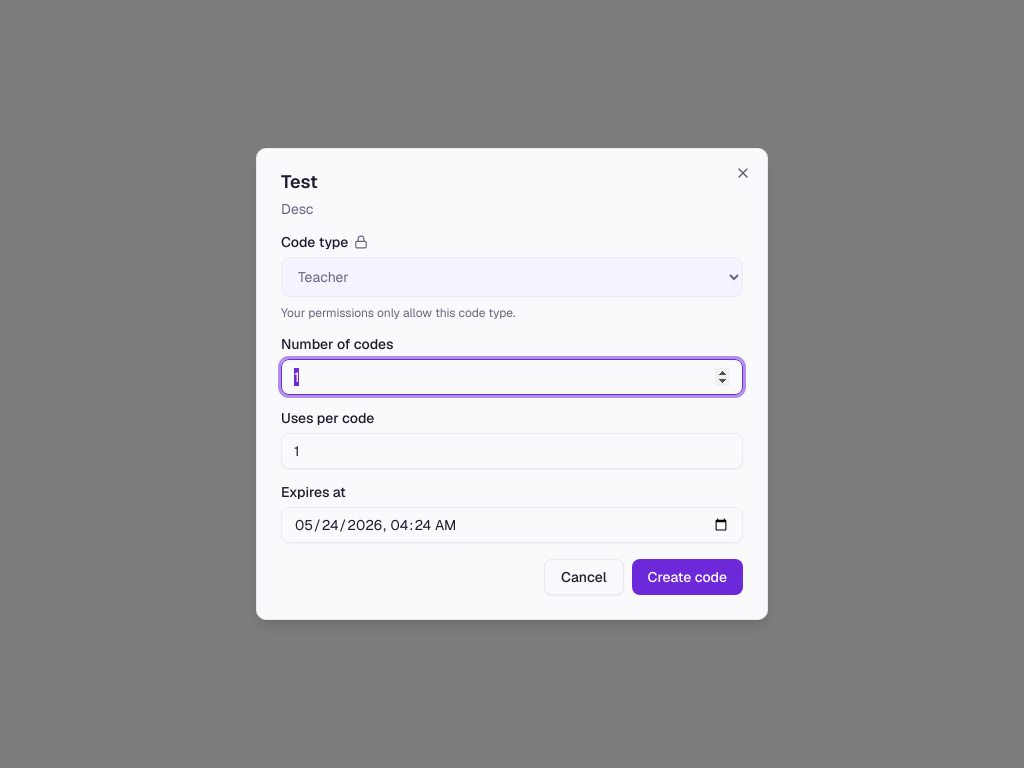
Test case: CreateRegistrationCodeDialog › shows uses validation error when usesPerCode < 1
Replace the text in the number field labelled "Uses per code" with "0": (512, 451) [281,433,743,469]
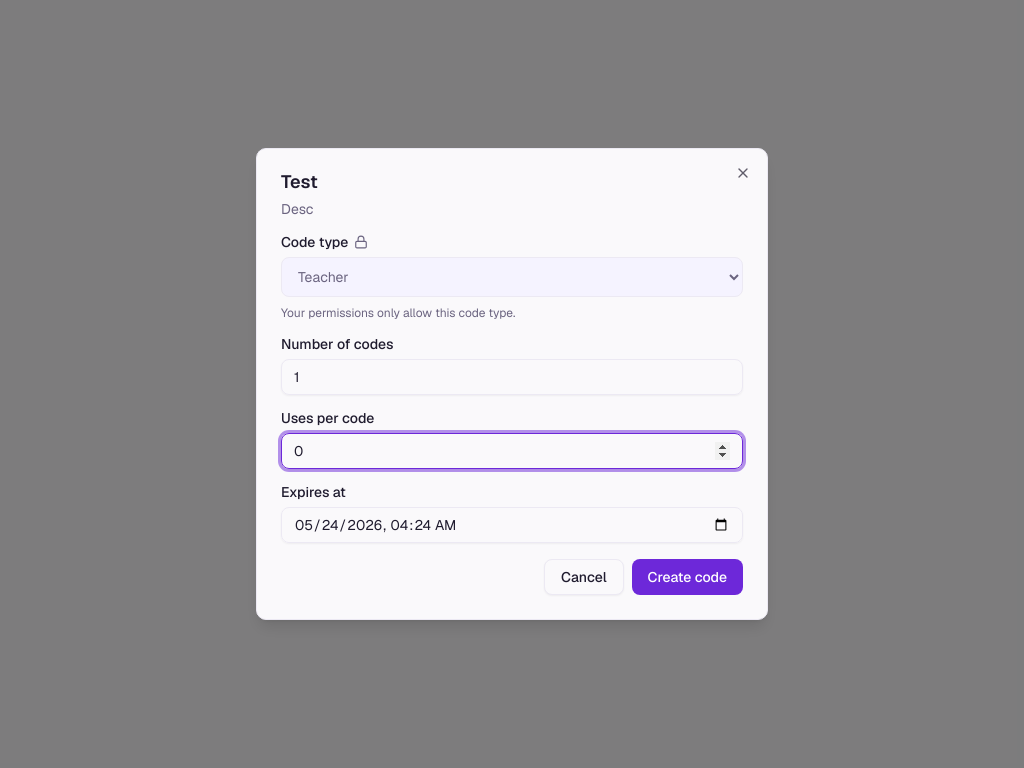
Click the button "Create code": (687, 577) [632,559,743,595]
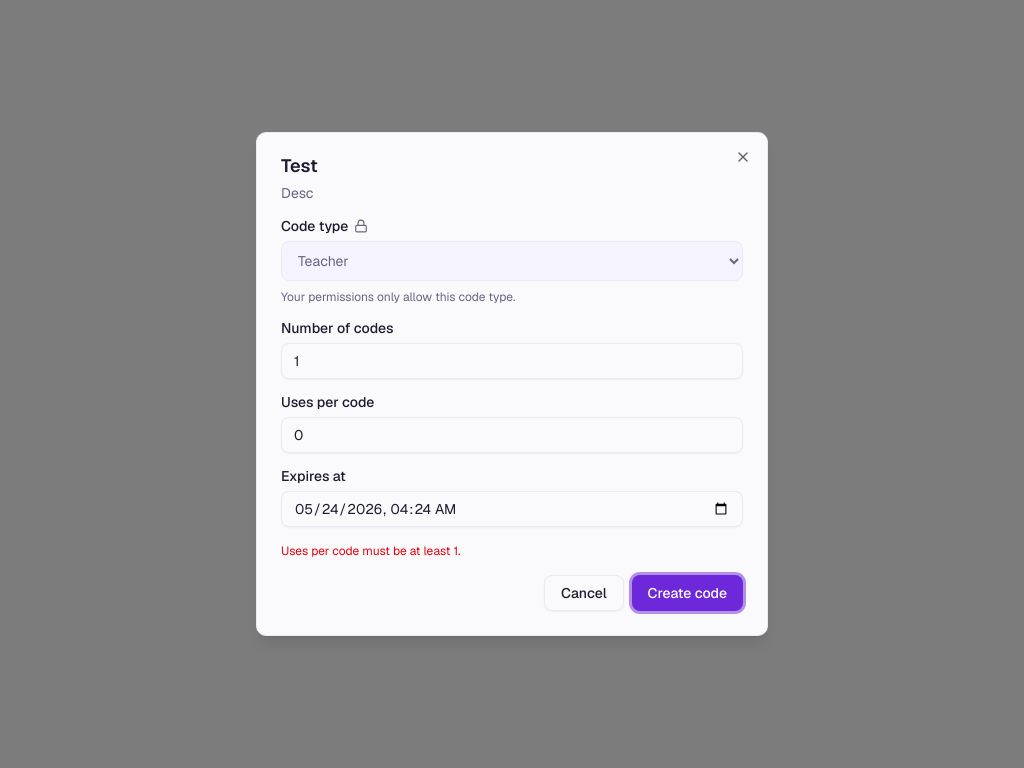
Expected: the text "Uses per code must be at least 1." is shown, [281,543,460,559]
